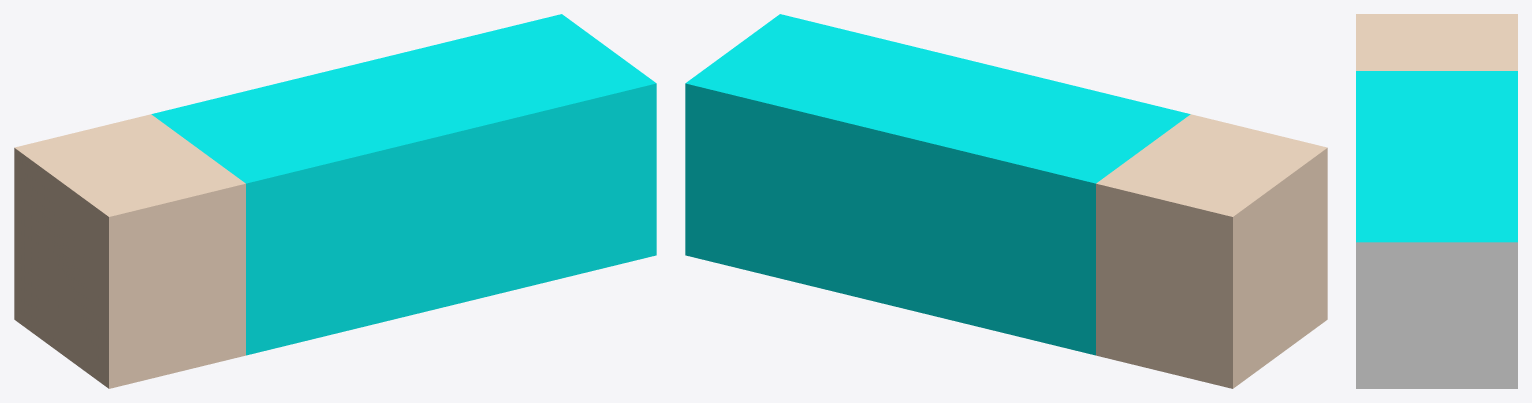
The model's file is Hand.dae.
The picture shows the model from 3 angles, left to right: view 1: azimuth 30°, elevation 25°; view 2: azimuth 150°, elevation 25°; view 3: azimuth 270°, elevation 25°; orthographic projection. The views are drawn at different scales.
Visible parts, largest first — view 1: group_0 (×2); view 2: group_0 (×2); view 3: group_0 (×3).
Boxes of the visible parts, <box> form: group_0 (×2): <box>14,14,656,388</box>; group_0 (×2): <box>685,14,1327,388</box>; group_0 (×3): <box>1356,14,1517,388</box>.
Bounding box in the file's own units: 0.9843 × 0.2953 × 0.2953.
